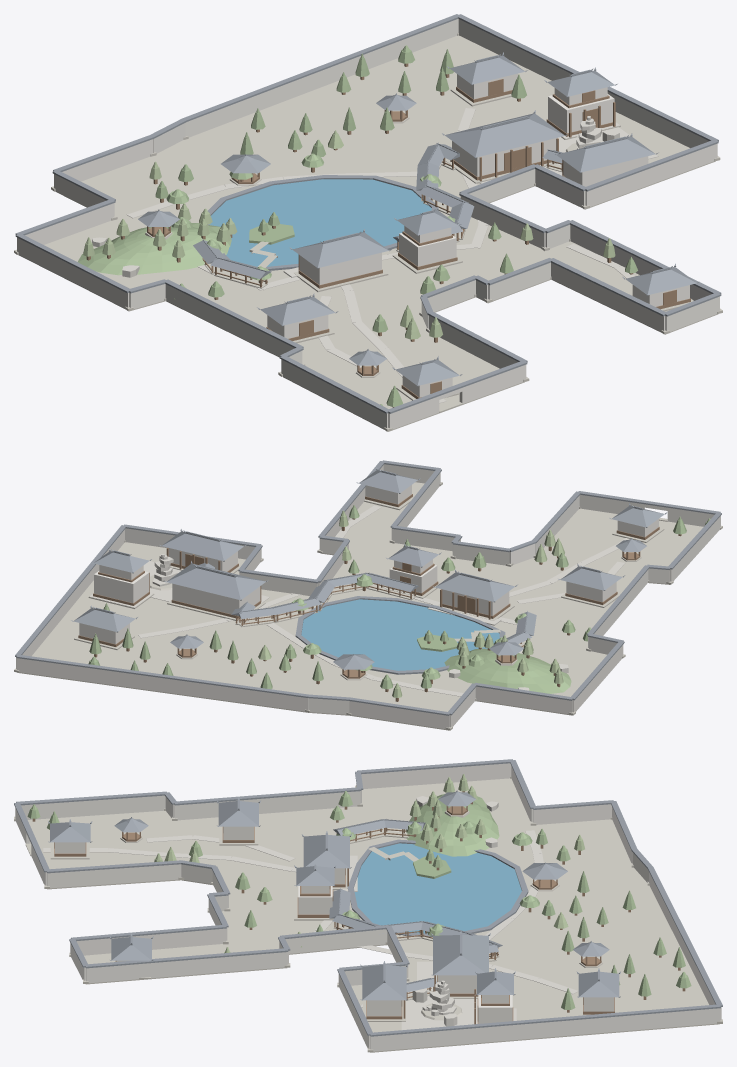
The model's file is liuyuan.glb.
3 views of the same model, one above another, from view 1: azimuth 30°, elevation 25°; view 2: azimuth 150°, elevation 25°; view 3: azimuth 270°, elevation 25° (orthographic). The views are drawn at different scales.
Parts seen in each view (by area): view 1: ly_stone, ly_wall_white, ly_tile_dark, ly_water, ly_leaf_green, ly_wood, ly_rock_limestone, ly_leaf_light; view 2: ly_stone, ly_wall_white, ly_tile_dark, ly_water, ly_leaf_green, ly_wood, ly_rock_limestone, ly_leaf_light; view 3: ly_stone, ly_wall_white, ly_tile_dark, ly_water, ly_leaf_green, ly_rock_limestone, ly_wood, ly_leaf_light.
Boxes of the visible parts, x1,y1,x2,y2 form: ly_stone: (14,33,722,431); ly_wall_white: (17,18,719,429); ly_tile_dark: (15,14,721,413); ly_water: (209,179,431,266); ly_leaf_green: (78,45,637,406); ly_wood: (86,63,690,407); ly_rock_limestone: (92,108,658,403); ly_leaf_light: (83,130,615,339); ly_stone: (14,482,722,730); ly_wall_white: (16,464,720,729); ly_tile_dark: (15,460,721,715); ly_water: (301,599,499,670); ly_leaf_green: (88,505,710,693); ly_wood: (78,494,681,701); ly_rock_limestone: (89,505,630,696); ly_leaf_light: (258,510,564,697); ly_stone: (14,776,722,1052); ly_wall_white: (15,763,721,1051); ly_tile_dark: (14,759,722,1036); ly_water: (354,843,521,933); ly_leaf_green: (27,791,691,1009); ly_rock_limestone: (43,796,578,1030); ly_wood: (32,791,685,1024); ly_leaf_light: (154,774,584,953).
Bounding box in the file's own units: 171 × 14.5 × 185.
